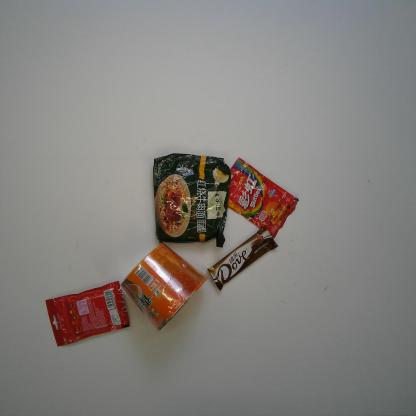Candy: (227, 157, 300, 240), (45, 280, 131, 347)
Chocolate: (206, 226, 278, 292)
Instant Noodles: (121, 241, 210, 332), (152, 152, 232, 249)
